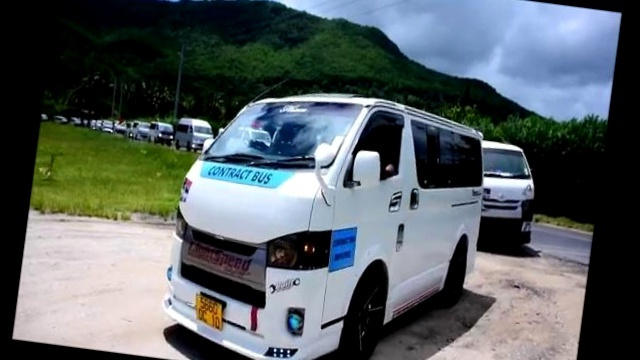van: (153, 68, 503, 360)
